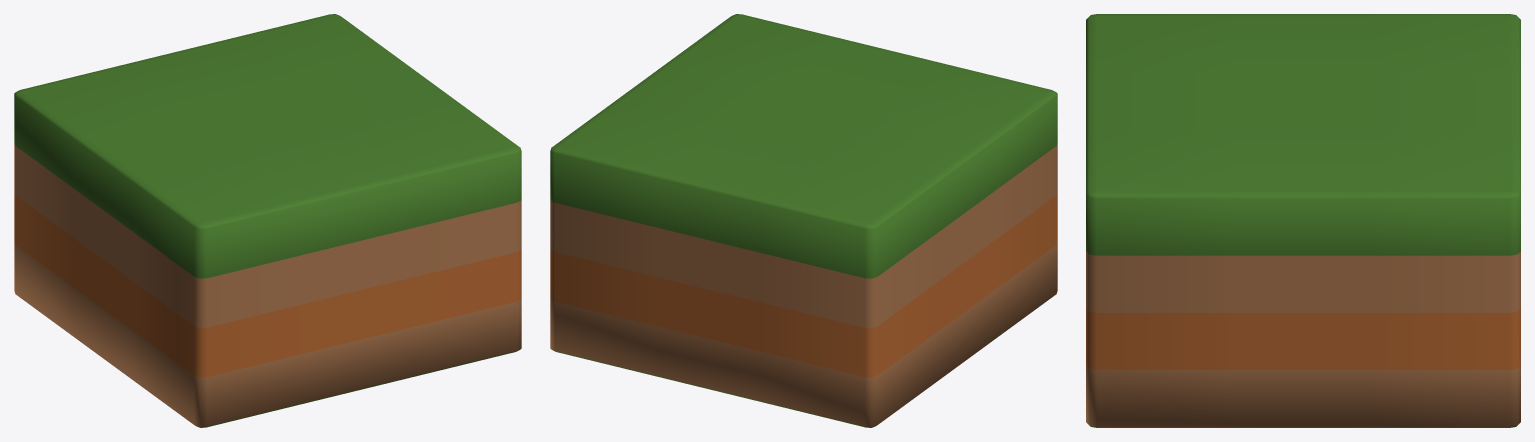
File: Platform02.fbx
The picture shows the model from 3 angles, left to right: view 1: azimuth 30°, elevation 25°; view 2: azimuth 150°, elevation 25°; view 3: azimuth 270°, elevation 25°; orthographic projection. The views are drawn at different scales.
Visible parts, largest first — view 1: Small_Grass_Platform2; view 2: Small_Grass_Platform2; view 3: Small_Grass_Platform2.
Boxes of the visible parts, bbox=[...] form: Small_Grass_Platform2: bbox=[14, 14, 521, 427]; Small_Grass_Platform2: bbox=[550, 14, 1057, 427]; Small_Grass_Platform2: bbox=[1086, 14, 1520, 427].
Size of the model in its own units: 200 by 119 by 200.
